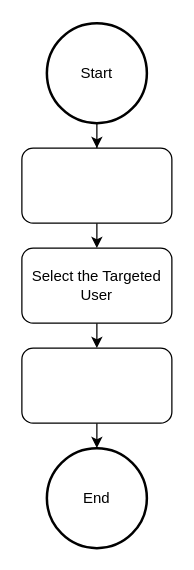
This 194x570 diagram has some shape labels left out. The shapes that lost their labels are listed below. From the top down, each one's box as (x1, y1, x2, y2) in pixels, then its label:
(21, 147, 172, 223): Administrator Sees List of Users
(21, 347, 172, 423): Send Message to User
